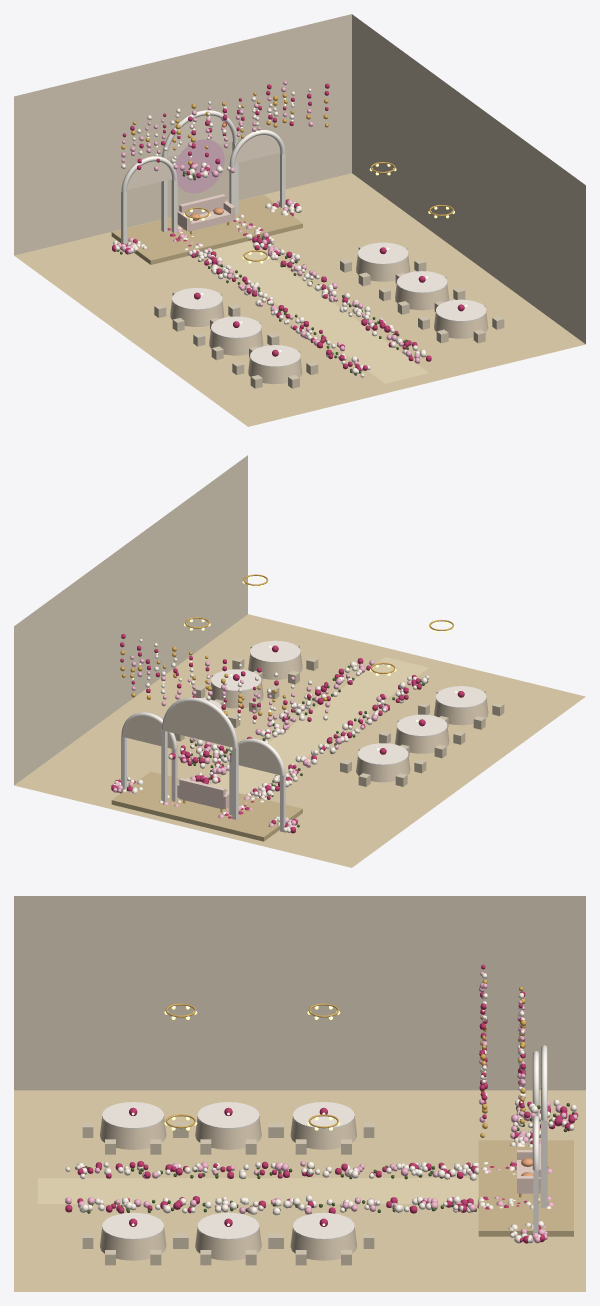
Rendered from venue-stage.glb.
3 views of the same model, one above another, from view 1: azimuth 30°, elevation 25°; view 2: azimuth 150°, elevation 25°; view 3: azimuth 270°, elevation 25° (orthographic). The views are drawn at different scales.
Visible parts, largest first — view 1: Floor, BackWall, SideWallRight, AisleRunner, ArchBackdrop, AisleFlowers, Stage, FloralCanopy, Table_6, Table_5, Table_3, Table_2 (+7 smaller); view 2: Floor, SideWallRight, ArchBackdrop, AisleRunner, Stage, AisleFlowers, FloralCanopy, Table_1, Table_3, Table_5, Table_6, Table_4 (+4 smaller); view 3: SideWallLeft, Floor, AisleRunner, AisleFlowers, Stage, Table_2, Table_4, Table_5, Table_6, Table_3, Table_1, ArchBackdrop (+5 smaller).
Boxes of the visible parts, <box> form: Floor: <box>14,173,585,426</box>; BackWall: <box>14,14,351,255</box>; SideWallRight: <box>352,14,585,343</box>; AisleRunner: <box>210,241,428,383</box>; ArchBackdrop: <box>121,110,285,244</box>; AisleFlowers: <box>167,214,431,377</box>; Stage: <box>111,195,302,264</box>; FloralCanopy: <box>121,81,329,171</box>; Table_6: <box>418,299,504,343</box>; Table_5: <box>232,345,318,388</box>; Table_3: <box>193,316,279,360</box>; Table_2: <box>340,242,426,286</box>; Floor: <box>14,614,585,867</box>; SideWallRight: <box>14,455,247,784</box>; ArchBackdrop: <box>121,697,285,832</box>; AisleRunner: <box>211,657,428,796</box>; Stage: <box>111,771,302,841</box>; AisleFlowers: <box>159,658,429,818</box>; FloralCanopy: <box>120,634,329,730</box>; Table_1: <box>340,743,426,786</box>; Table_3: <box>379,714,465,758</box>; Table_5: <box>418,686,504,729</box>; Table_6: <box>232,640,318,684</box>; Table_4: <box>193,669,279,712</box>; SideWallLeft: <box>14,896,585,1090</box>; Floor: <box>14,1090,585,1291</box>; AisleRunner: <box>37,1178,478,1203</box>; AisleFlowers: <box>65,1161,553,1215</box>; Stage: <box>478,1140,573,1236</box>; Table_2: <box>273,1212,374,1265</box>; Table_4: <box>178,1212,278,1265</box>; Table_5: <box>82,1102,182,1154</box>; Table_6: <box>82,1212,183,1265</box>; Table_3: <box>178,1102,278,1154</box>; Table_1: <box>273,1102,374,1154</box>; ArchBackdrop: <box>532,1045,547,1232</box>.
Size of the model in its own units: 20 by 9.11 by 24.
